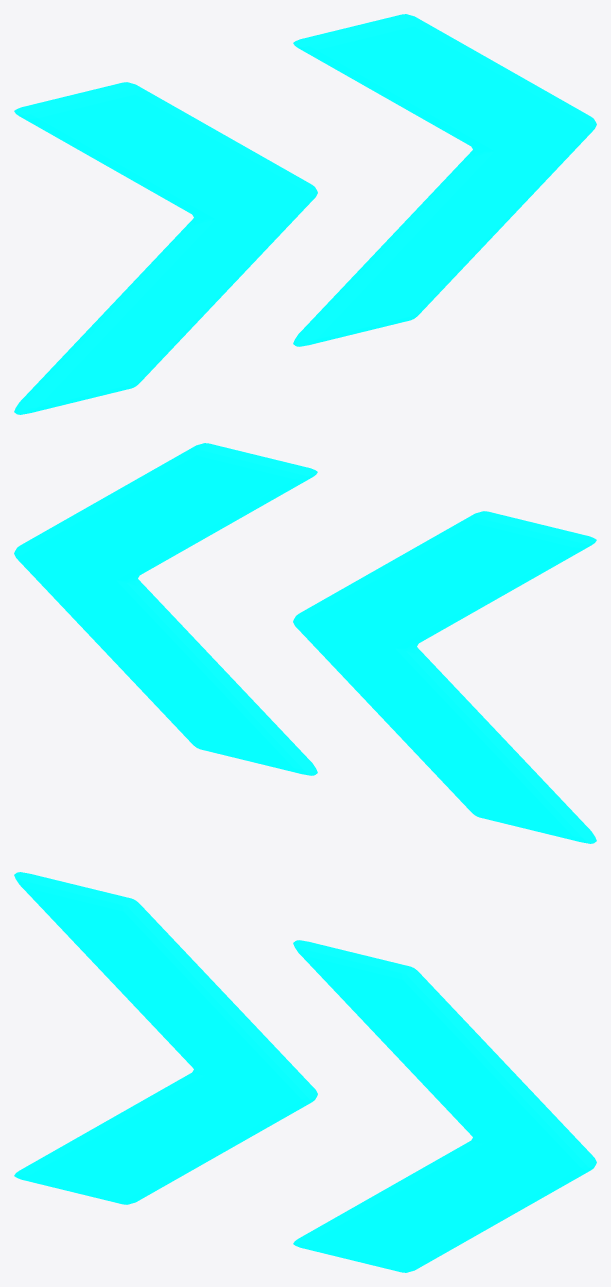
Rendered from SecurityBayRouteMarkerModel.fbx.
The picture shows the model from 3 angles, top to bottom: view 1: azimuth 30°, elevation 25°; view 2: azimuth 150°, elevation 25°; view 3: azimuth 330°, elevation 25°; orthographic projection.
Visible parts, largest first — view 1: Security Bay Route Marker; view 2: Security Bay Route Marker; view 3: Security Bay Route Marker.
Boxes of the visible parts, bbox=[...] form: Security Bay Route Marker: bbox=[14, 14, 596, 414]; Security Bay Route Marker: bbox=[14, 443, 596, 843]; Security Bay Route Marker: bbox=[14, 872, 596, 1272].
Size of the model in its own units: 2.08 by 1.04 by 0.07.
